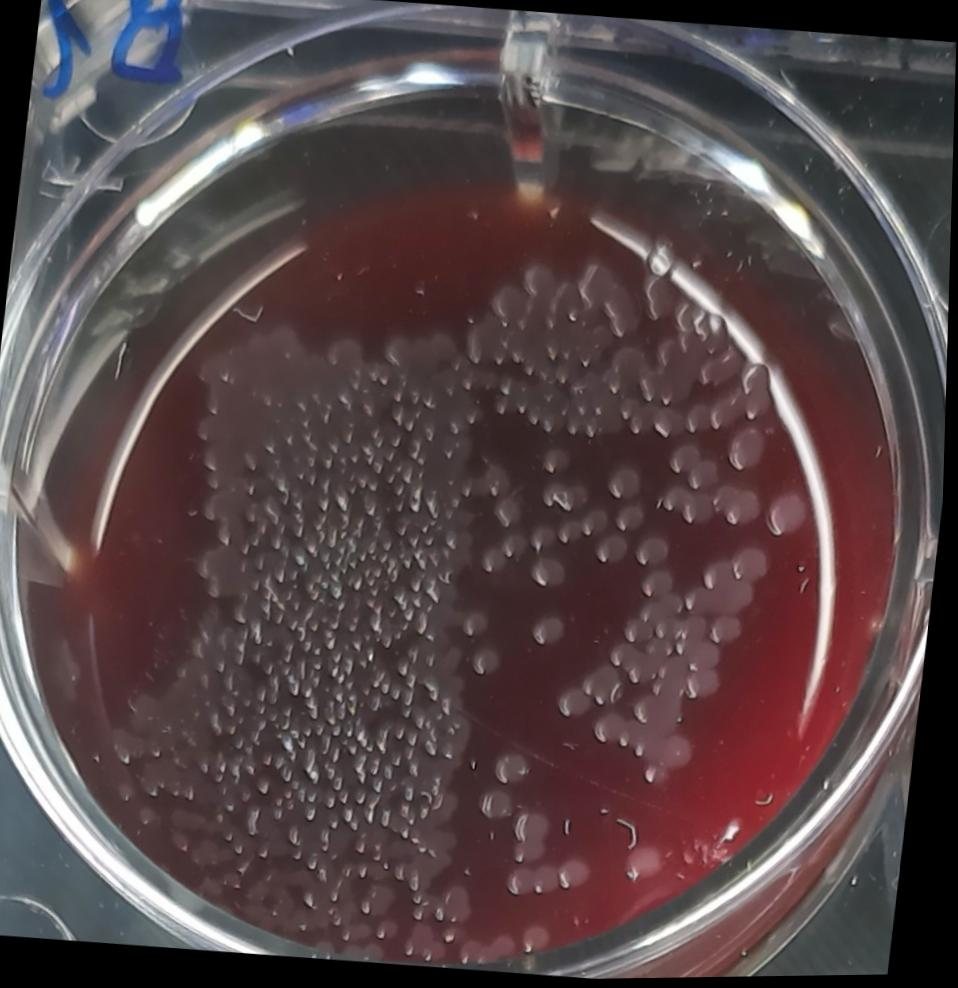asalmonicida: (576, 259, 648, 340), (386, 325, 462, 370), (658, 483, 721, 532), (668, 444, 725, 494), (193, 546, 242, 603), (737, 362, 780, 425), (582, 659, 632, 710), (428, 712, 479, 761), (765, 488, 813, 540), (528, 383, 575, 435), (609, 642, 663, 686), (728, 424, 770, 476), (717, 486, 764, 532), (539, 480, 596, 517), (627, 840, 672, 884), (464, 464, 515, 502), (644, 273, 681, 325), (508, 863, 563, 897), (734, 545, 776, 588), (594, 707, 635, 750), (480, 785, 522, 825), (489, 281, 528, 324), (522, 259, 562, 299), (529, 557, 572, 593), (637, 532, 676, 571), (496, 751, 536, 789), (364, 880, 402, 920), (621, 399, 658, 440), (533, 610, 571, 649), (560, 683, 599, 721), (609, 466, 647, 505), (539, 442, 579, 479), (711, 612, 750, 649), (581, 504, 617, 544), (562, 856, 600, 893), (522, 920, 560, 955), (598, 534, 634, 570), (169, 804, 212, 834), (654, 406, 689, 441), (710, 398, 742, 435), (642, 568, 679, 600), (685, 402, 718, 437), (494, 498, 531, 529), (474, 644, 507, 677), (531, 521, 562, 556), (479, 548, 513, 578), (615, 507, 651, 535), (504, 532, 535, 563), (463, 610, 495, 639), (559, 518, 586, 548), (290, 821, 319, 847), (320, 828, 348, 854), (355, 834, 379, 858), (494, 395, 516, 418), (382, 808, 403, 830), (427, 581, 448, 603), (499, 375, 521, 396), (446, 529, 466, 552), (258, 775, 278, 796), (305, 802, 326, 822), (399, 654, 416, 678), (409, 646, 428, 666), (262, 750, 280, 769), (283, 766, 301, 784), (393, 681, 408, 701), (327, 790, 342, 808), (345, 807, 360, 824), (383, 679, 396, 696), (336, 775, 349, 791)
